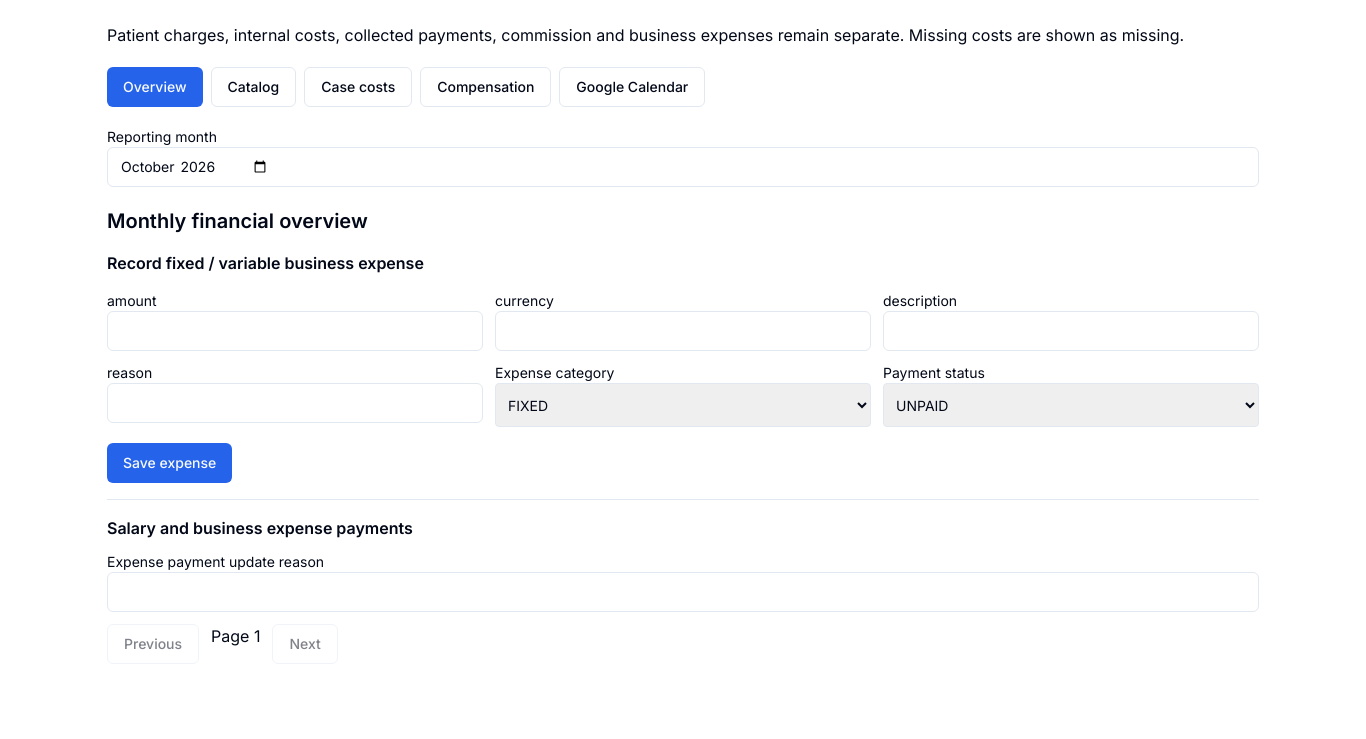
Test: keeps catalog editing usable after a save failure and displays the server reason
Click the button "Catalog": (253, 87) x1=210 y1=67 x2=296 y2=107
(page scrolled)
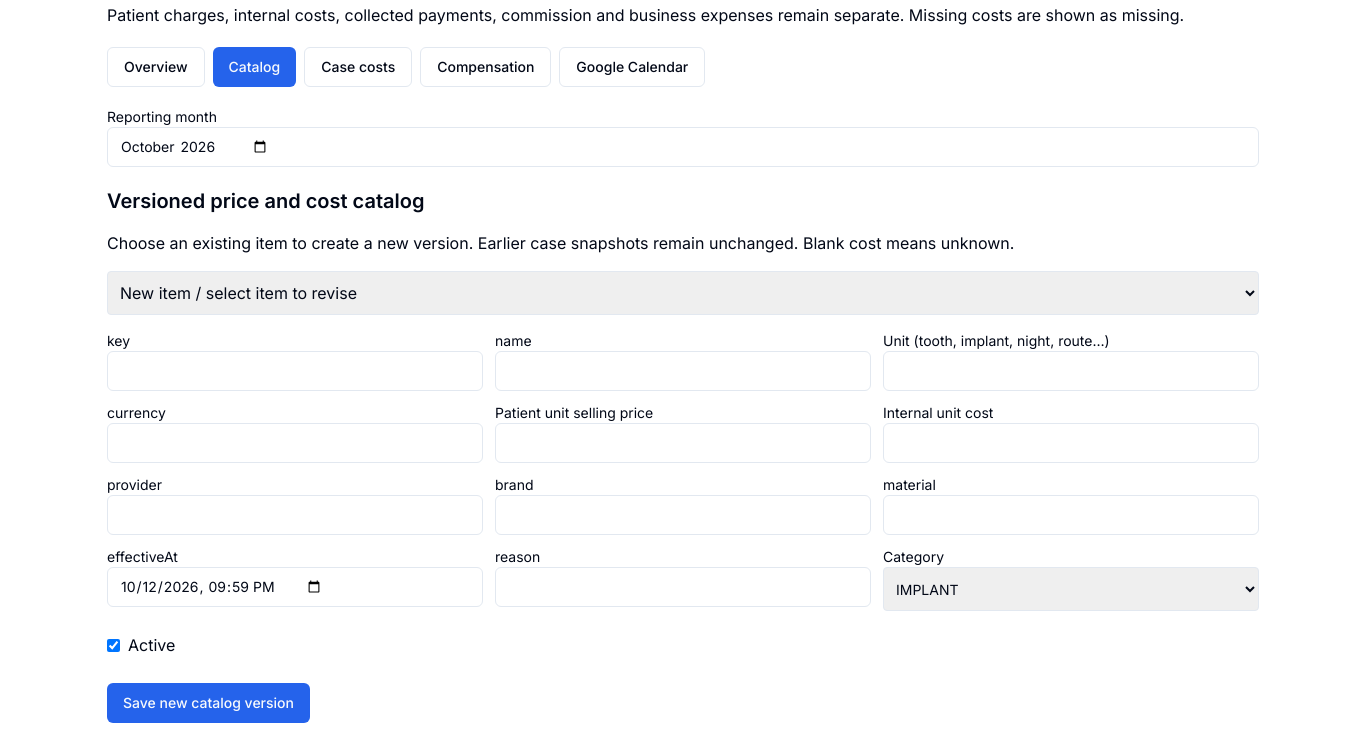
Click the button "Save new catalog version": (208, 703) x1=107 y1=683 x2=310 y2=723
(page scrolled)
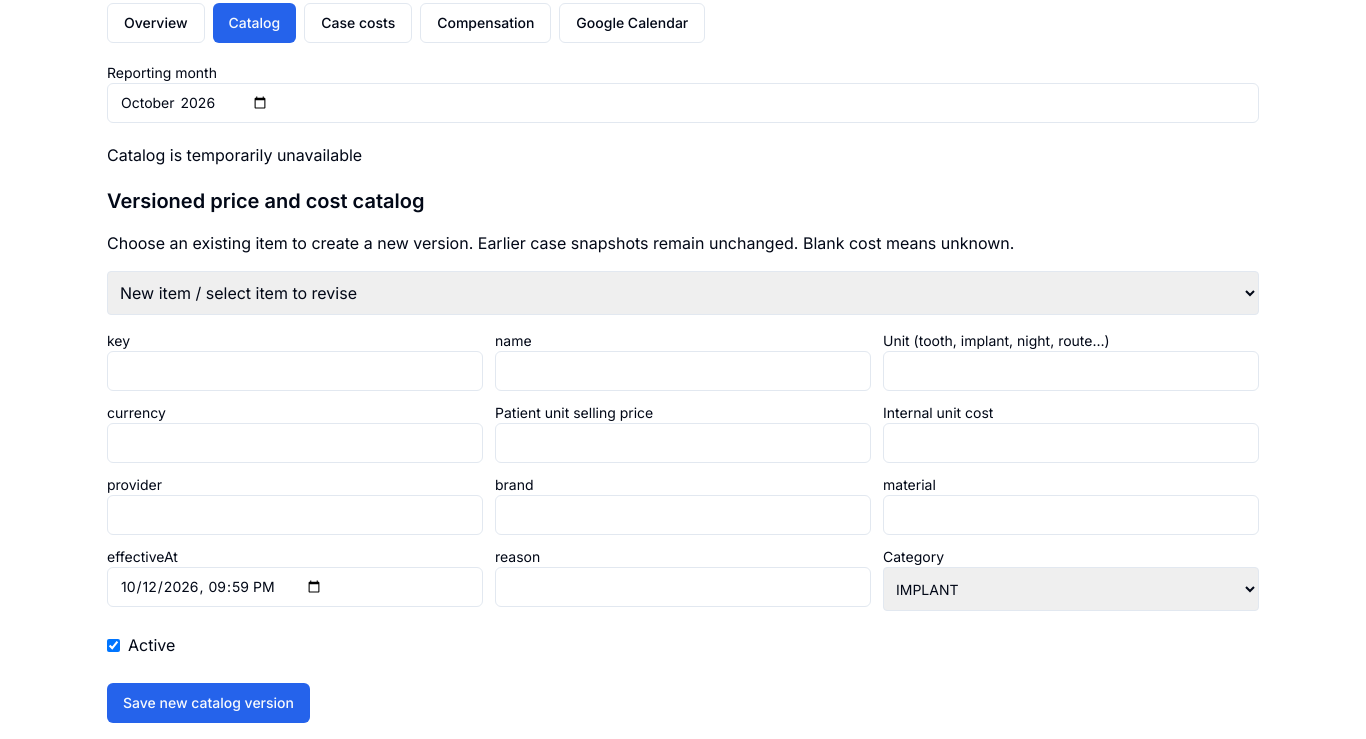
Check: the button "Save new catalog version" is enabled, box x1=107 y1=683 x2=310 y2=723
Check: the message reads "Catalog is temporarily unavailable", box x1=107 y1=145 x2=362 y2=165
